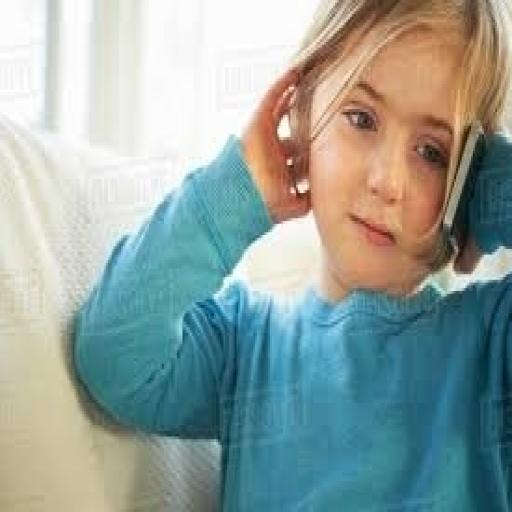calling: (69, 0, 510, 509)
